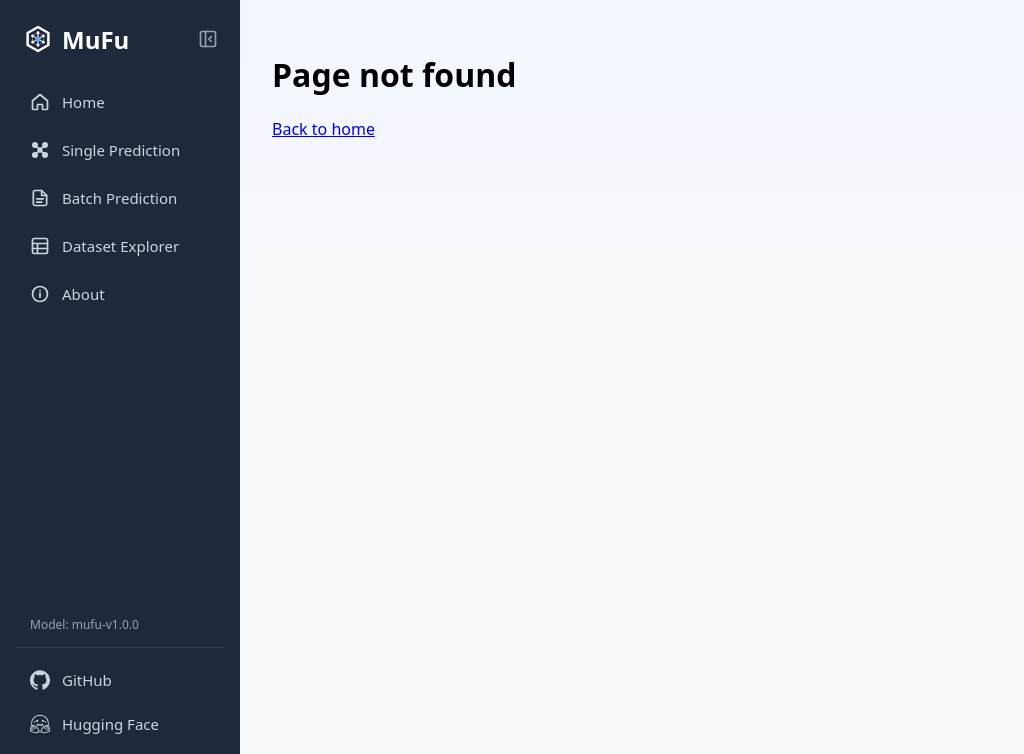
App › renders a not-found page with a link home for unknown paths
Expected: the heading "Page not found" is shown, [272,53,516,96]
Click the link "Back to home" at (323, 129), box [272,118,375,140]
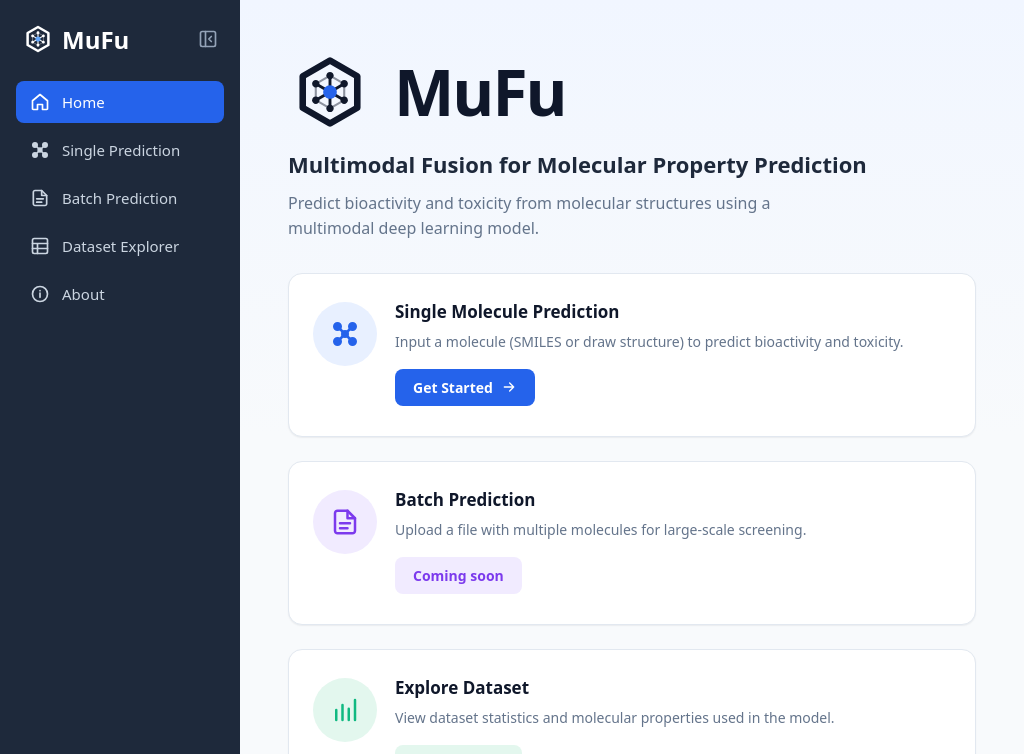
Expected: the heading "MuFu" is shown, [394,48,566,135]
